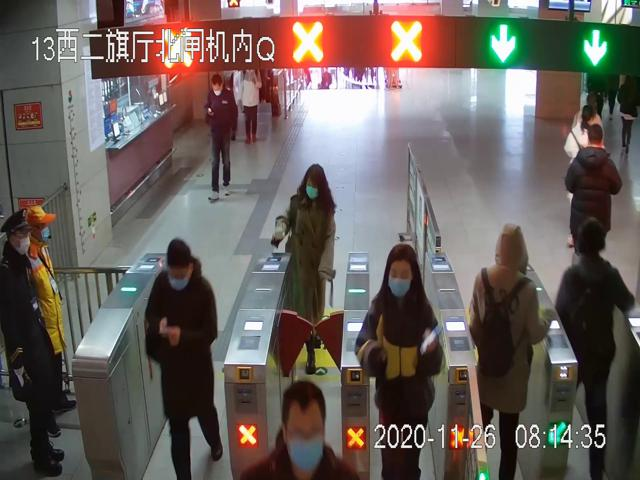person: (469, 223, 549, 480), (357, 245, 443, 480), (150, 239, 225, 480), (0, 209, 65, 476), (279, 164, 336, 374), (203, 73, 238, 203)
